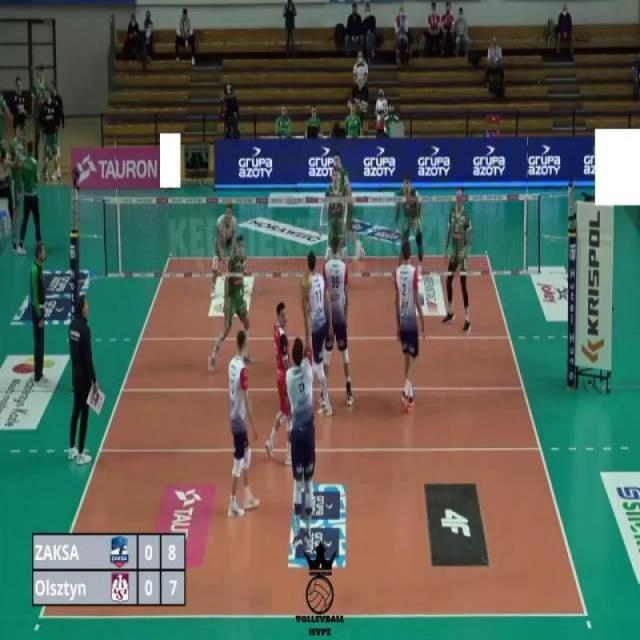volleyball: (298, 269, 312, 300)
